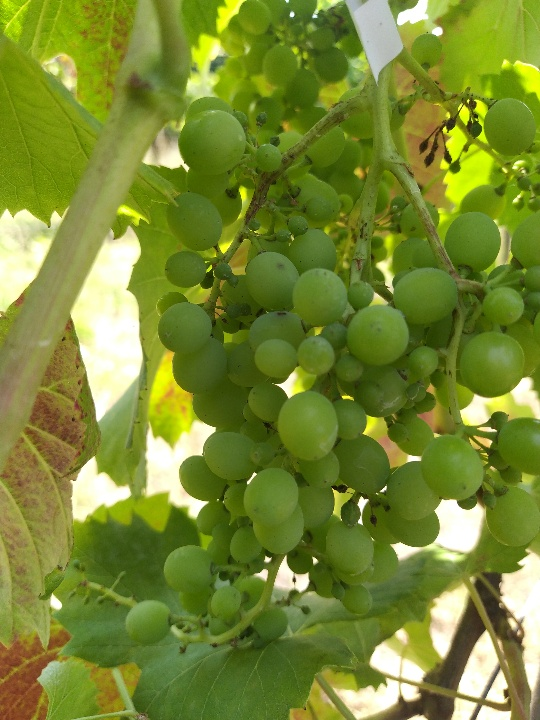grape: (119, 92, 536, 661)
